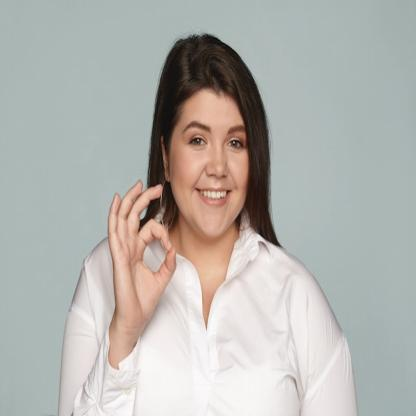ok: (107, 174, 178, 342)
